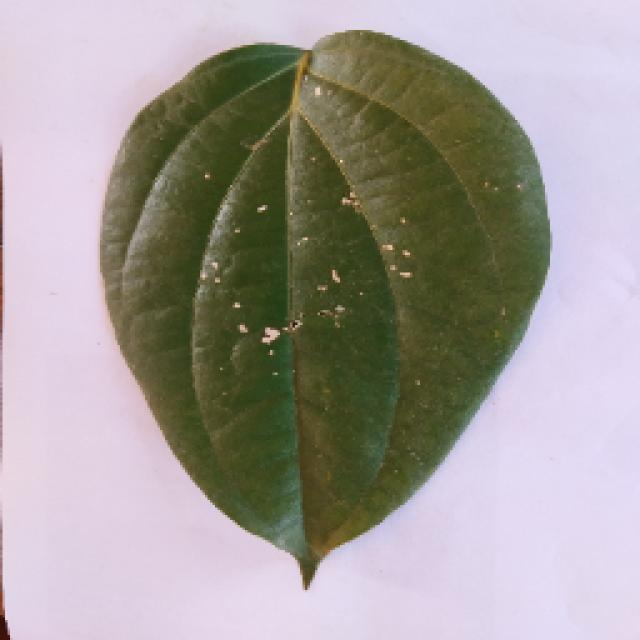pollu-disease: (98, 30, 550, 585)
